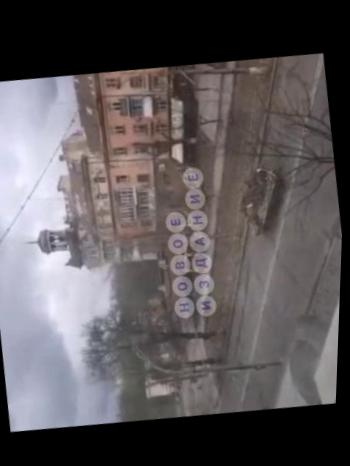tank: (233, 162, 290, 238)
